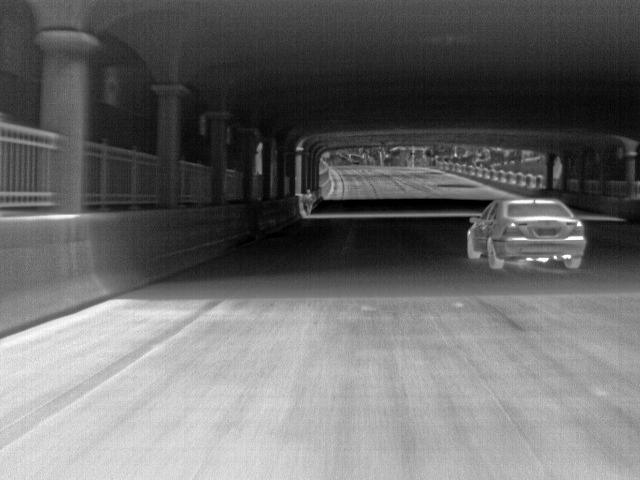car: (464, 195, 589, 270)
person: (302, 188, 315, 216)
